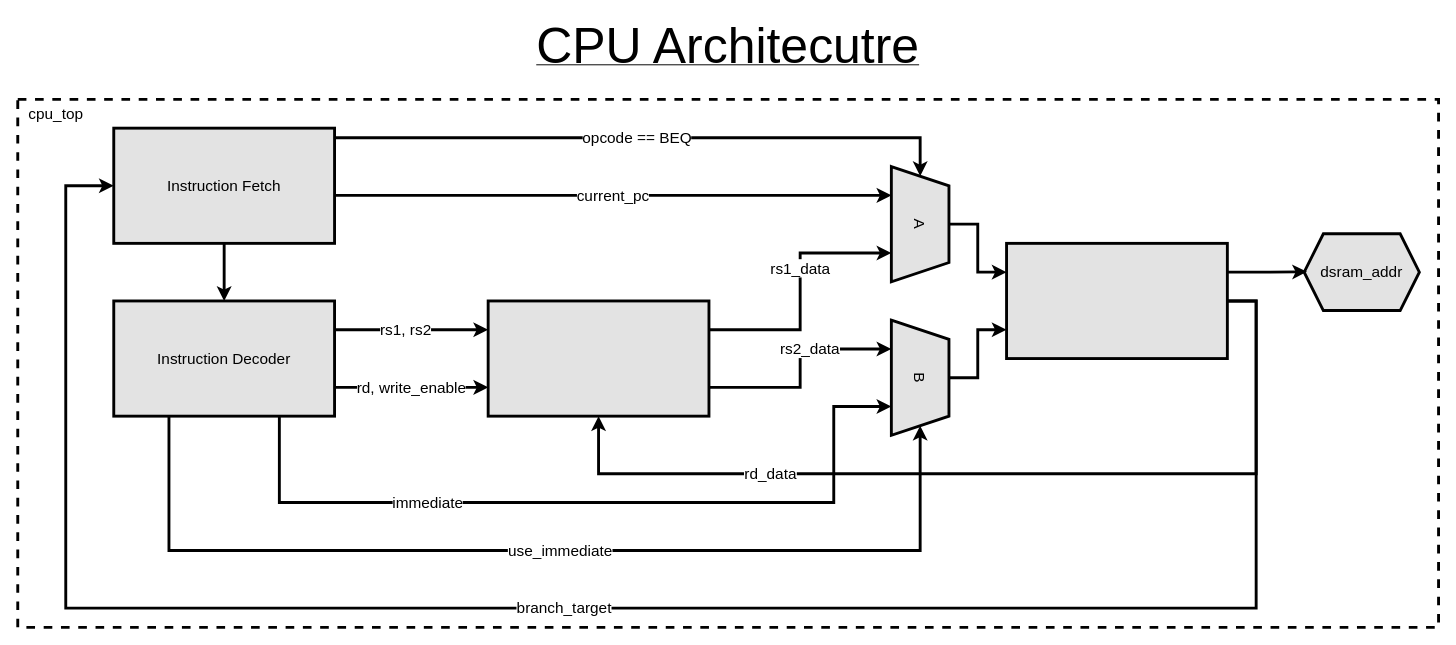
This 1456x645 diagram has some shape labels left out. Here are the shapes that lost their labels. From the top down, the centre of each, then its label:
At point (1116, 300): "ALU".
At point (598, 358): "Register File".
